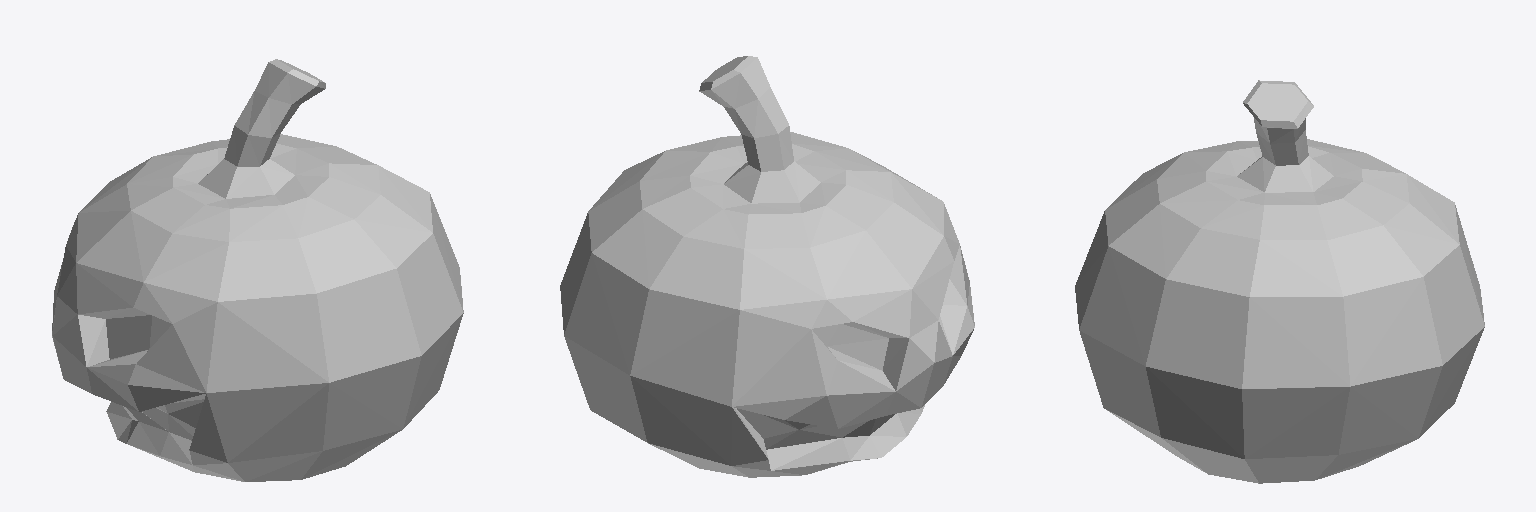
The model's file is Pumpkin_4.obj.
The picture shows the model from 3 angles: view 1: azimuth 30°, elevation 25°; view 2: azimuth 150°, elevation 25°; view 3: azimuth 270°, elevation 25°; orthographic projection.
Visible parts, largest first — view 1: Pumpkin_4; view 2: Pumpkin_4; view 3: Pumpkin_4.
Part boxes in pixels (left/top/right/bottom): Pumpkin_4: left=52, top=59, right=463, bottom=481; Pumpkin_4: left=560, top=56, right=974, bottom=477; Pumpkin_4: left=1075, top=80, right=1484, bottom=483.
Size of the model in its own units: 0.4371 by 0.4215 by 0.4198.